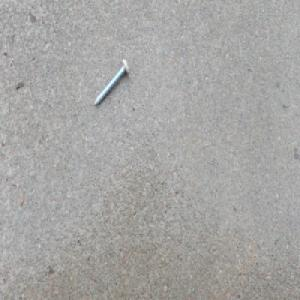Nail: (90, 56, 128, 109)
